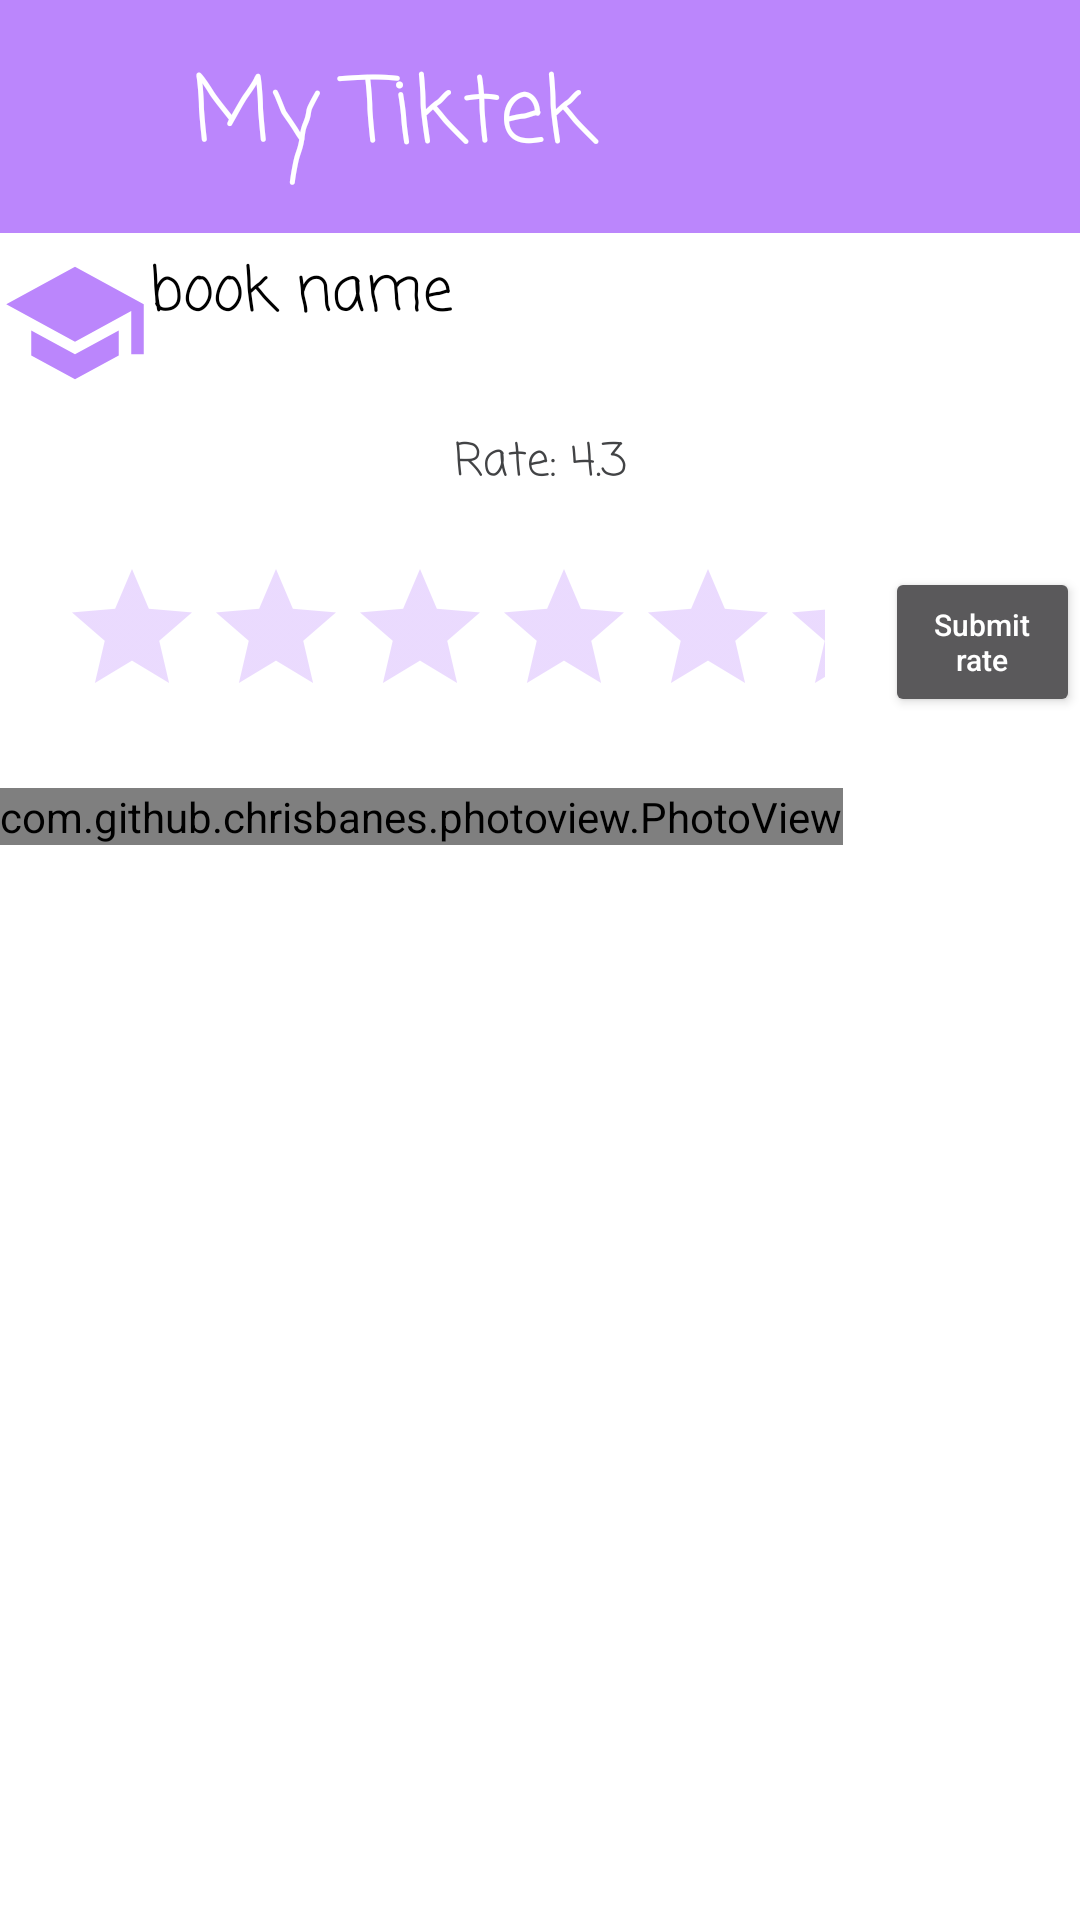

Point at icon controls on the screen. Image size 1080w x 1920h, points as [x,y].
school: [75,323]
